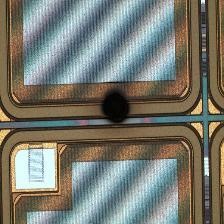PARTICLE: (96, 87, 136, 127)
